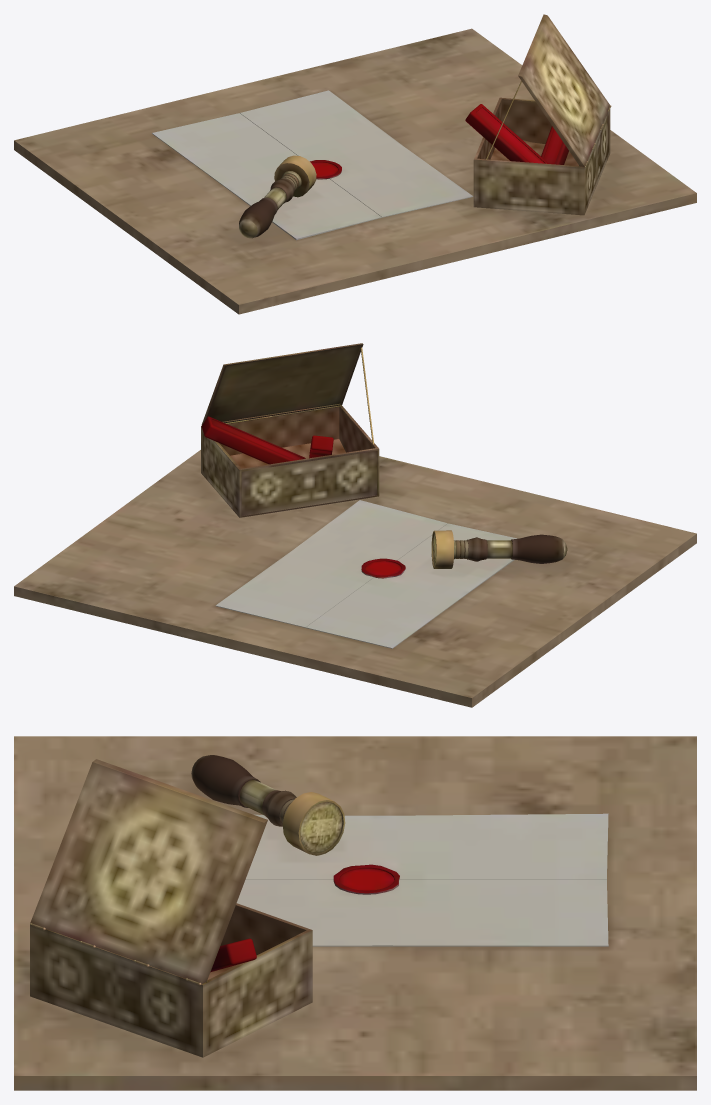
File: obj_seal_and_letter.glb
The picture shows the model from 3 angles, top to bottom: view 1: azimuth 30°, elevation 25°; view 2: azimuth 150°, elevation 25°; view 3: azimuth 270°, elevation 25°; orthographic projection. The views are drawn at different scales.
Parts seen in each view (by area): view 1: defaultMaterial; view 2: defaultMaterial; view 3: defaultMaterial.
Boxes of the visible parts, box(x1,y1,x2,y2) form: defaultMaterial: box(14, 14, 696, 314); defaultMaterial: box(14, 343, 696, 707); defaultMaterial: box(14, 736, 696, 1090).
Size of the model in its own units: 0.25 by 0.0752 by 0.2125.
Materials: 1 (1 with a texture image).
